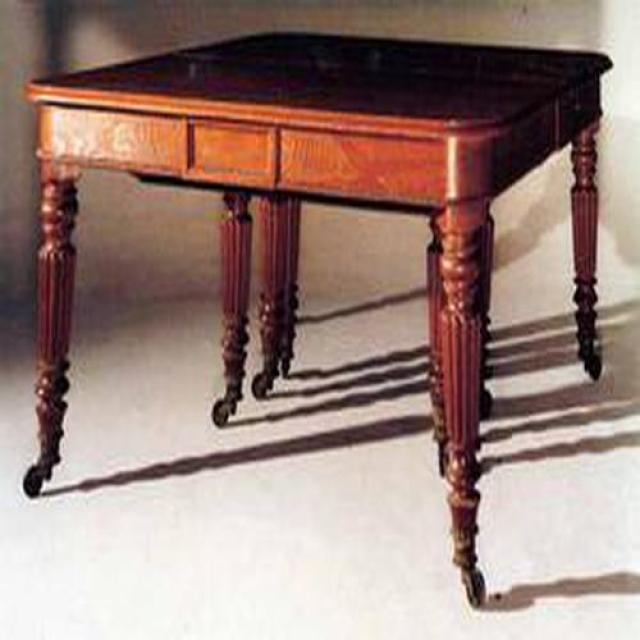table: (23, 32, 616, 608)
